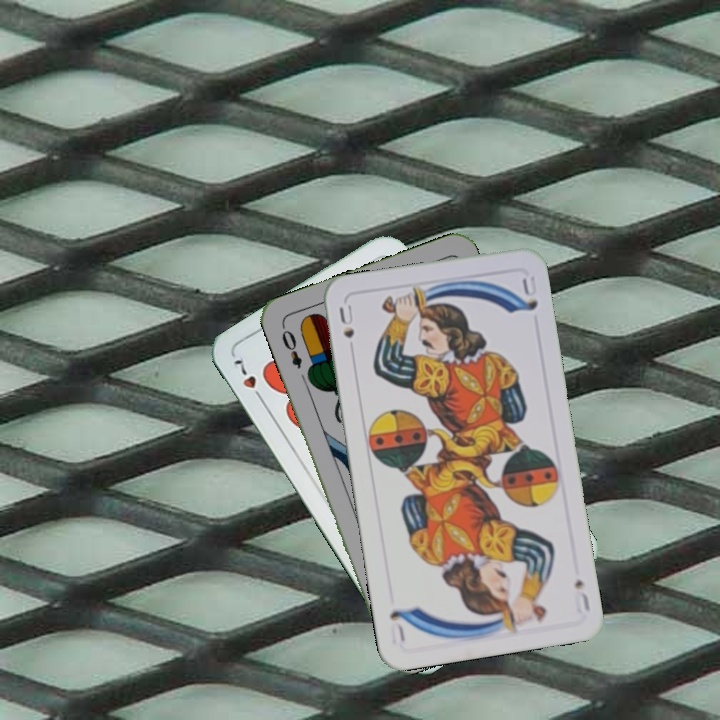EO: (277, 321, 305, 371)
H7: (229, 353, 267, 406)
SU: (335, 300, 358, 358), (570, 575, 593, 616)
